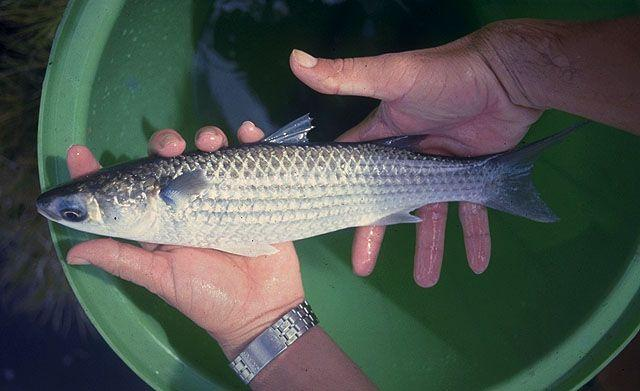Mullet: (33, 110, 599, 257)
